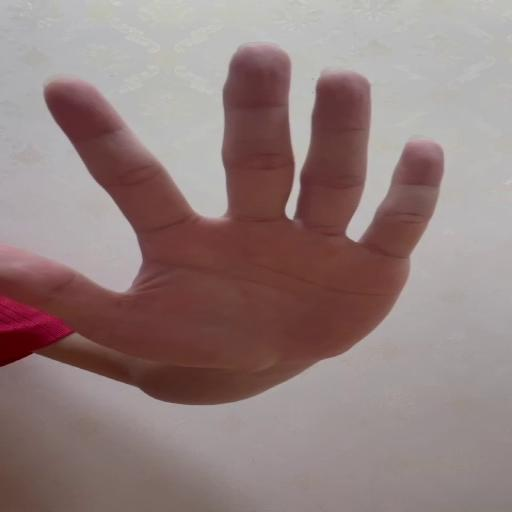open_palm: (0, 40, 445, 374)
